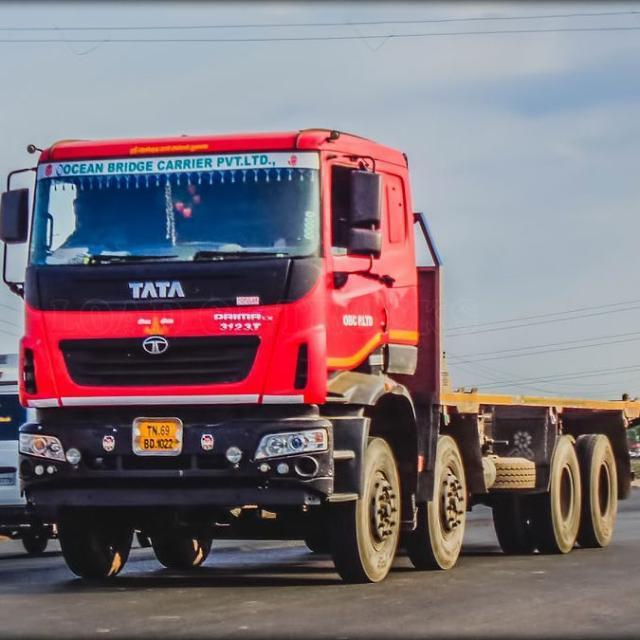Truck: (2, 127, 640, 587)
